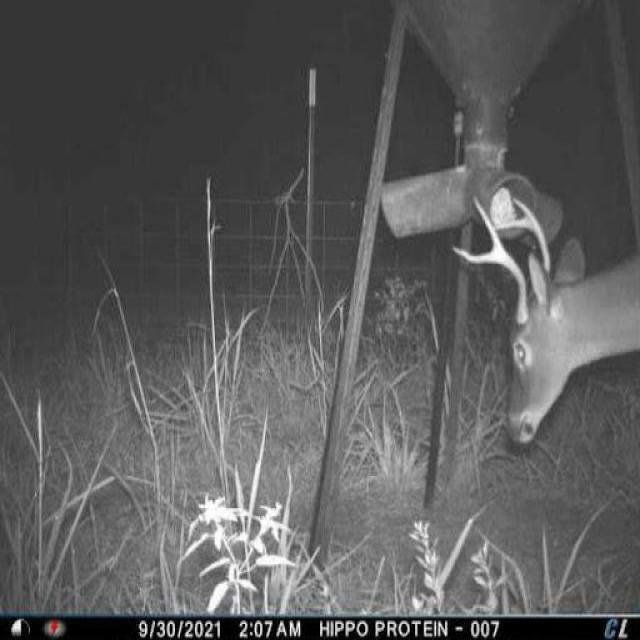deer: (455, 184, 640, 451)
